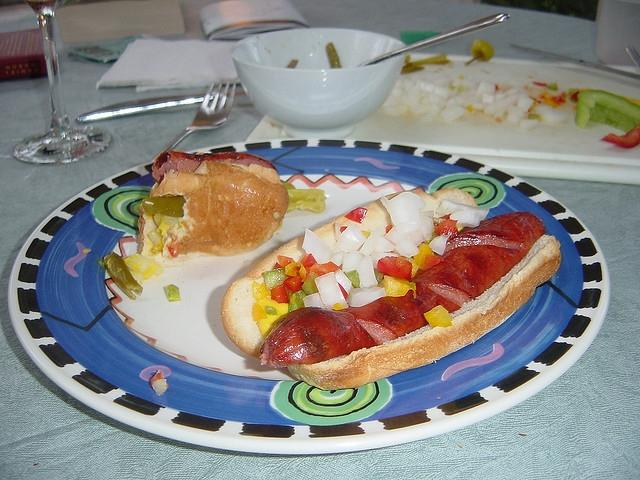bell pepper: (577, 90, 640, 132), (104, 250, 144, 300), (374, 275, 416, 299), (142, 196, 186, 218), (600, 124, 640, 148), (377, 256, 412, 282), (424, 305, 452, 327), (434, 219, 459, 239), (288, 290, 308, 314), (301, 271, 320, 296), (420, 255, 444, 272), (252, 280, 272, 300), (285, 262, 307, 278), (344, 270, 361, 288), (552, 92, 568, 105), (266, 306, 278, 316)
green bean: (104, 251, 144, 300), (142, 195, 186, 218), (325, 42, 341, 69), (286, 60, 298, 68)
onion: (381, 192, 426, 234), (314, 271, 348, 310), (332, 224, 367, 255), (359, 228, 382, 256), (342, 251, 366, 273), (414, 94, 444, 111), (450, 210, 478, 223)
